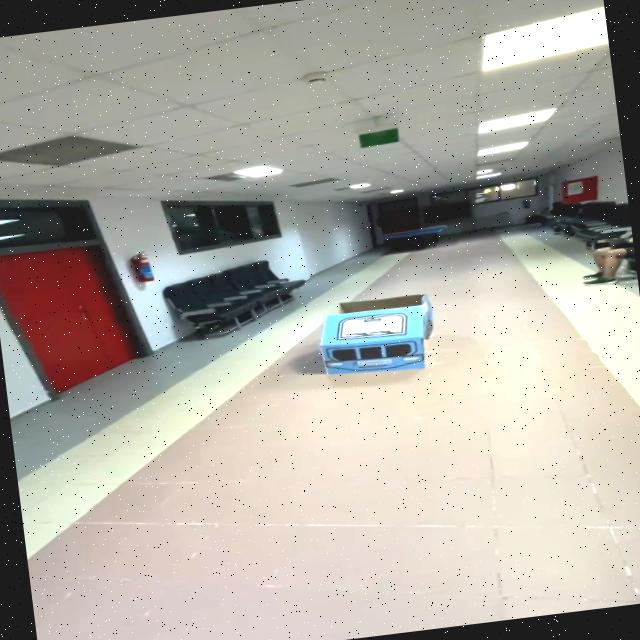blue_car: (284, 270, 473, 396)
